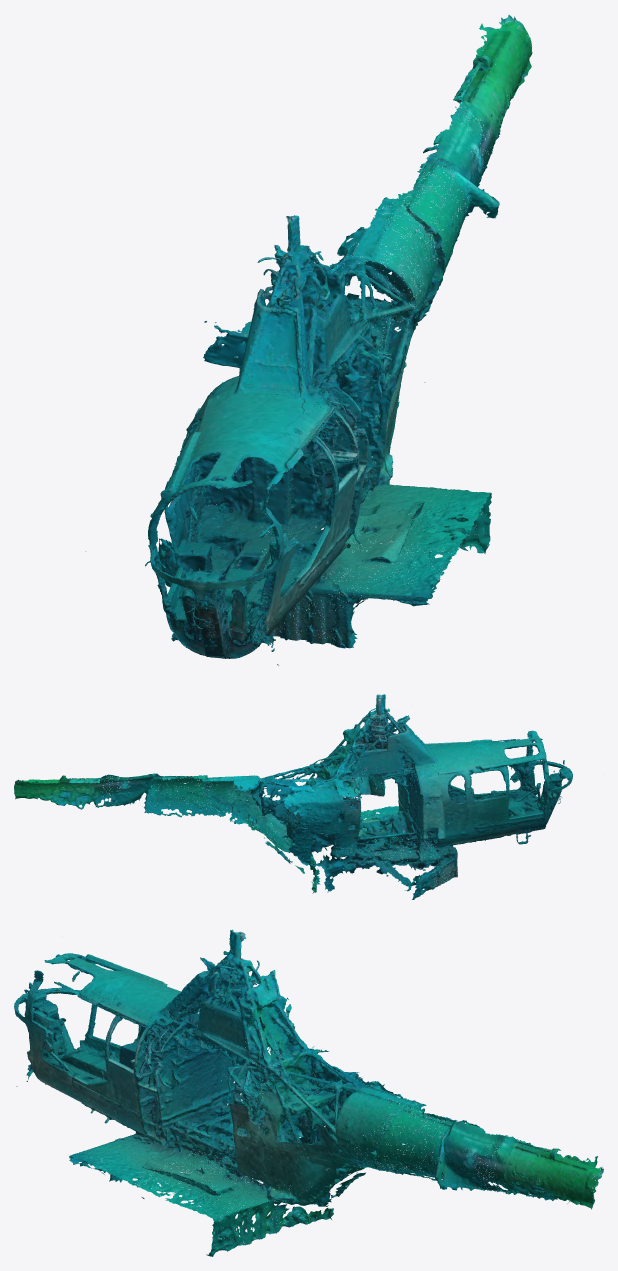
Rendered from helicopter_wreck.glb.
3 views of the same model, one above another, from view 1: azimuth 30°, elevation 25°; view 2: azimuth 150°, elevation 25°; view 3: azimuth 270°, elevation 25° (orthographic). The views are drawn at different scales.
Parts seen in each view (by area): view 1: Object_3, Object_8, Object_14, Object_10, Object_7, Object_5, Object_9, Object_12, Object_15, Object_4, Object_13, Object_11 (+1 smaller); view 2: Object_11, Object_14, Object_3, Object_15, Object_10, Object_5, Object_9, Object_6, Object_13, Object_8, Object_12, Object_4 (+1 smaller); view 3: Object_10, Object_14, Object_9, Object_3, Object_15, Object_7, Object_11, Object_8, Object_4, Object_13, Object_12, Object_5 (+1 smaller).
Part boxes in pixels (box(x1,y1,x2,y2)): Object_3: box(158, 278, 425, 587); Object_8: box(85, 462, 491, 648); Object_14: box(159, 20, 532, 520); Object_10: box(300, 193, 486, 550); Object_7: box(225, 458, 457, 658); Object_5: box(186, 215, 330, 439); Object_9: box(191, 299, 489, 597); Object_12: box(153, 390, 303, 665); Object_15: box(180, 15, 531, 599); Object_4: box(181, 246, 424, 510); Object_13: box(169, 264, 480, 647); Object_11: box(239, 239, 485, 553); Object_11: box(208, 769, 375, 893); Object_14: box(14, 718, 546, 817); Object_3: box(397, 730, 544, 899); Object_15: box(14, 773, 447, 886); Object_10: box(163, 759, 375, 879); Object_5: box(358, 694, 453, 806); Object_9: box(247, 761, 448, 889); Object_6: box(365, 700, 547, 883); Object_13: box(215, 731, 568, 892); Object_8: box(310, 757, 569, 873); Object_12: box(324, 742, 572, 852); Object_4: box(291, 716, 450, 834); Object_10: box(176, 1048, 430, 1254); Object_14: box(30, 954, 601, 1233); Object_9: box(91, 1046, 339, 1253); Object_3: box(44, 953, 251, 1124); Object_15: box(100, 1054, 603, 1208); Object_7: box(37, 1031, 174, 1185); Object_11: box(171, 1047, 382, 1253); Object_8: box(44, 955, 287, 1256); Object_4: box(130, 959, 357, 1092); Object_13: box(14, 973, 384, 1244); Object_12: box(14, 971, 328, 1143); Object_5: box(159, 929, 294, 1064).
Size of the model in its own units: 67.14 by 28.87 by 58.32.
Materials: 1 (1 with a texture image).
